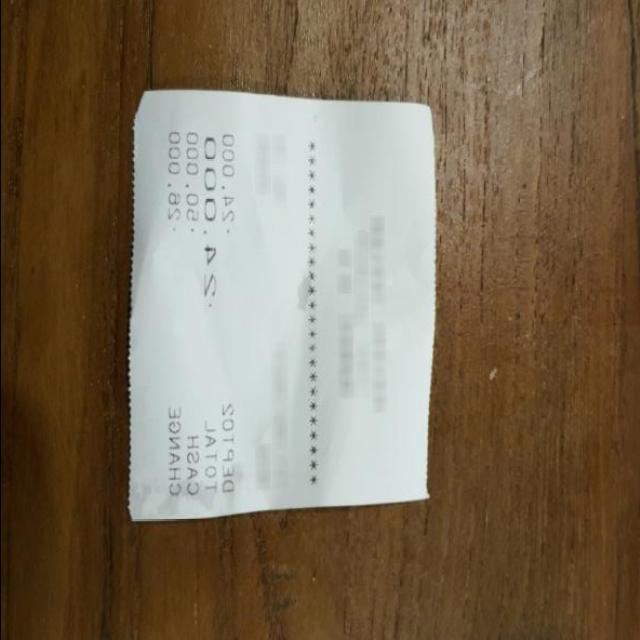kertas: (129, 90, 434, 521)
